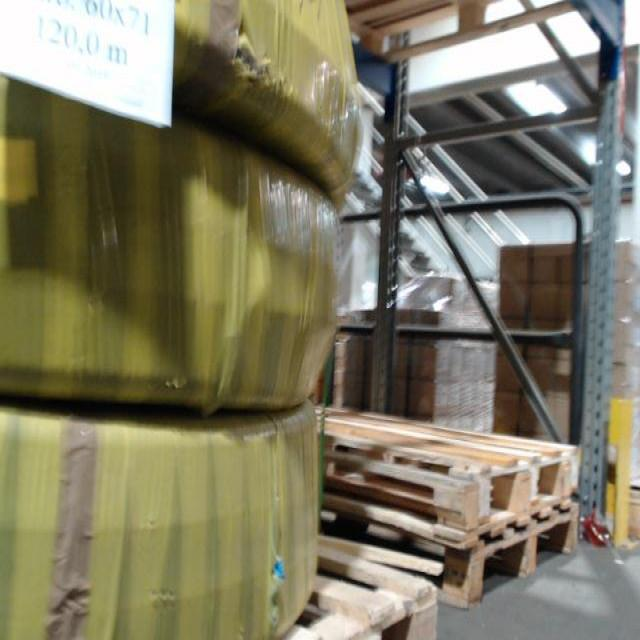pallet: (305, 480, 580, 607), (295, 408, 580, 530), (244, 542, 440, 638), (344, 2, 570, 66)
